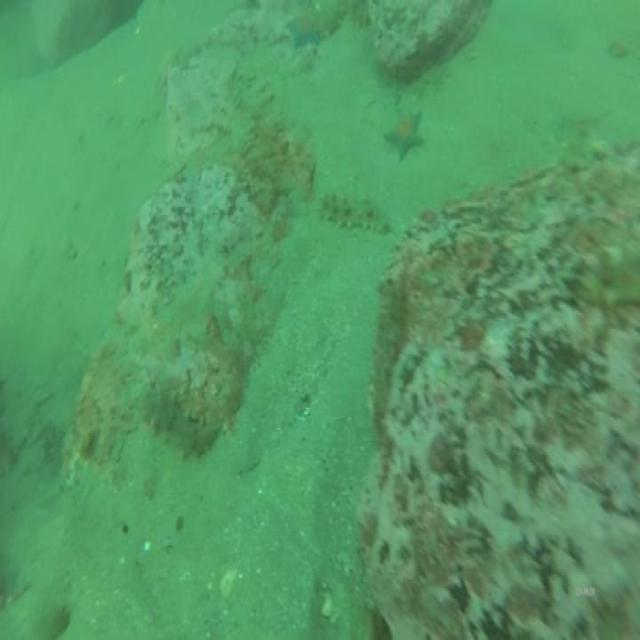holothurian: (140, 388, 222, 464), (574, 250, 640, 316), (317, 182, 391, 238)
starfish: (385, 102, 426, 162), (282, 6, 324, 54)
